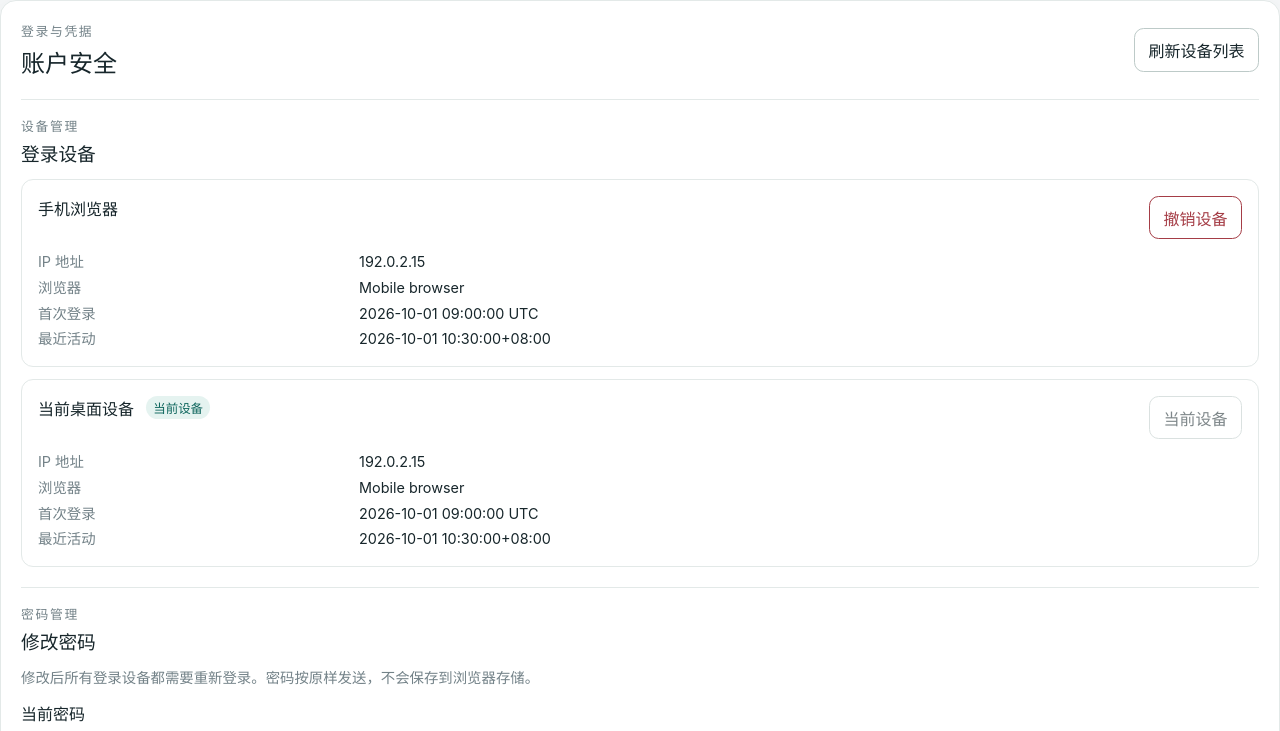
it: AccountSecurityPanel › does not claim a 404 revoke succeeded and refreshes the list
This screenshot has width=1280, height=731.
Expected: the heading "手机浏览器" is shown, [38,196,118,220]
Click the button with aria-label "撤销设备「手机浏览器」": (1195, 218) [1149,196,1242,239]
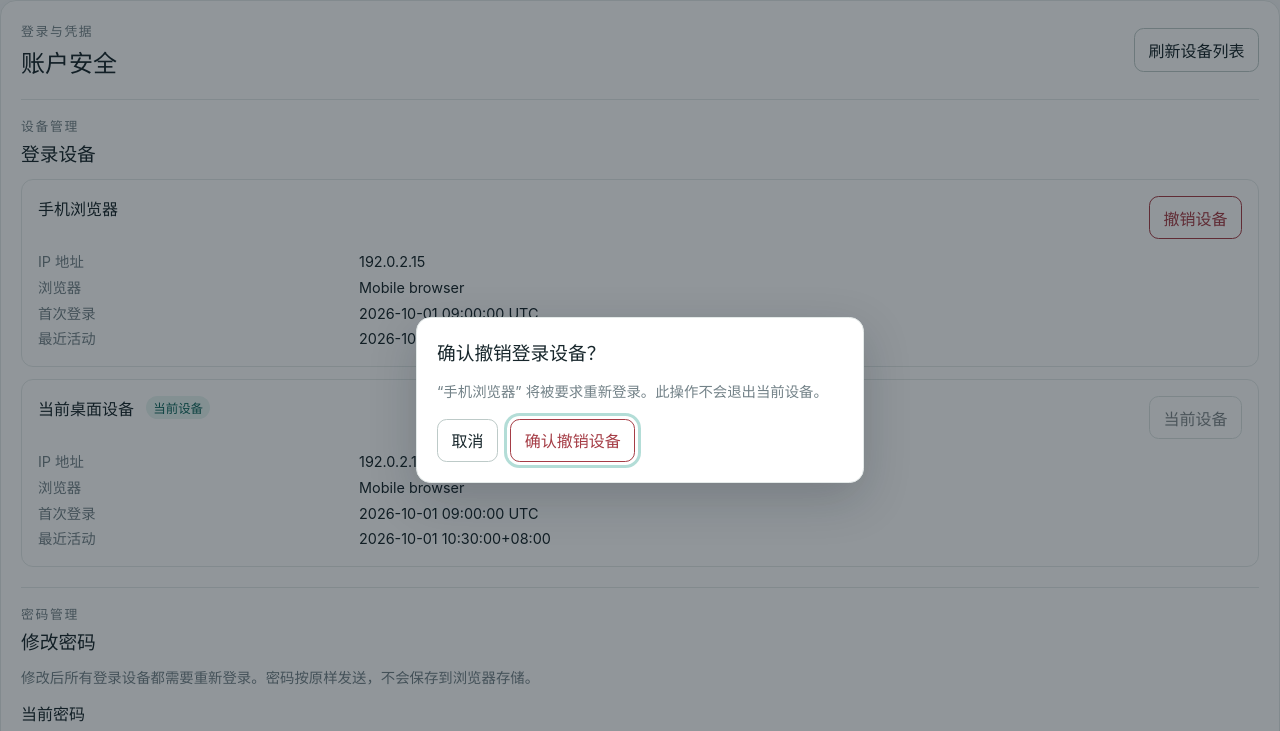
Click the button "确认撤销设备": (573, 440) [510,418,635,462]
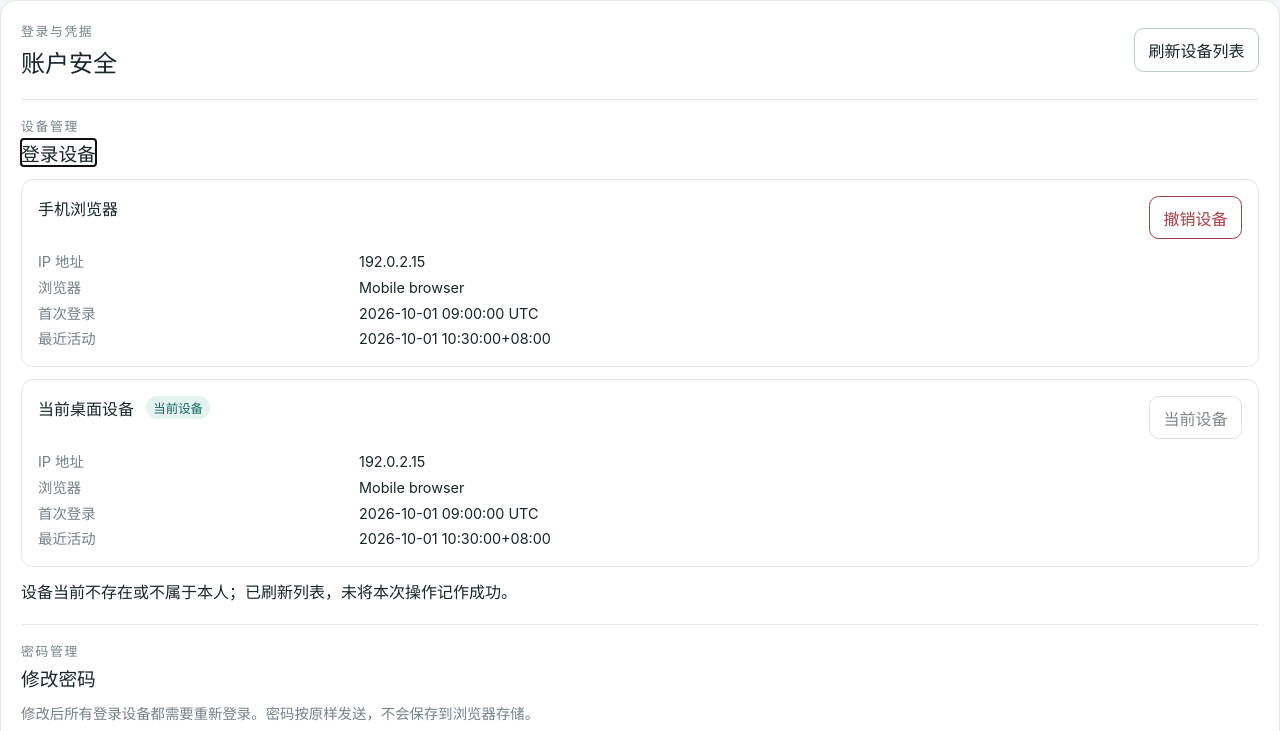
Expected: the text "设备当前不存在或不属于本人；已刷新列表，未将本次操作记作成功。" is shown, [21,582,517,602]
